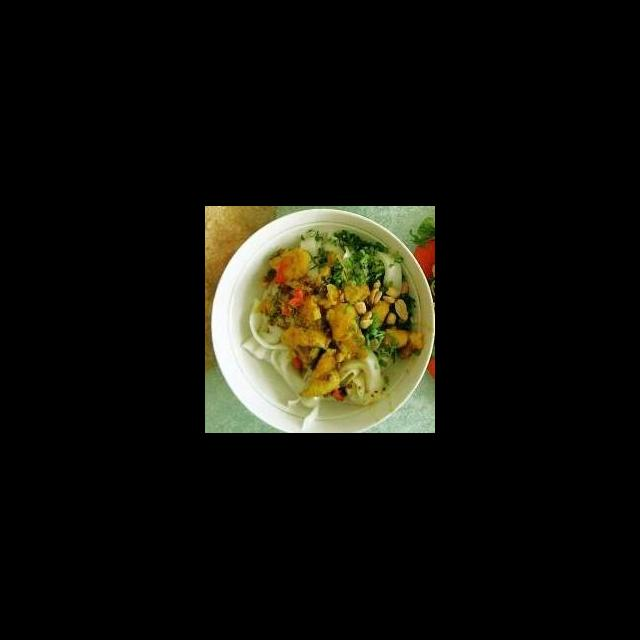ca: (279, 291, 330, 368), (324, 302, 374, 366), (298, 348, 344, 402), (267, 247, 319, 294), (280, 324, 334, 352)
mi: (240, 298, 322, 410), (371, 250, 405, 296)
